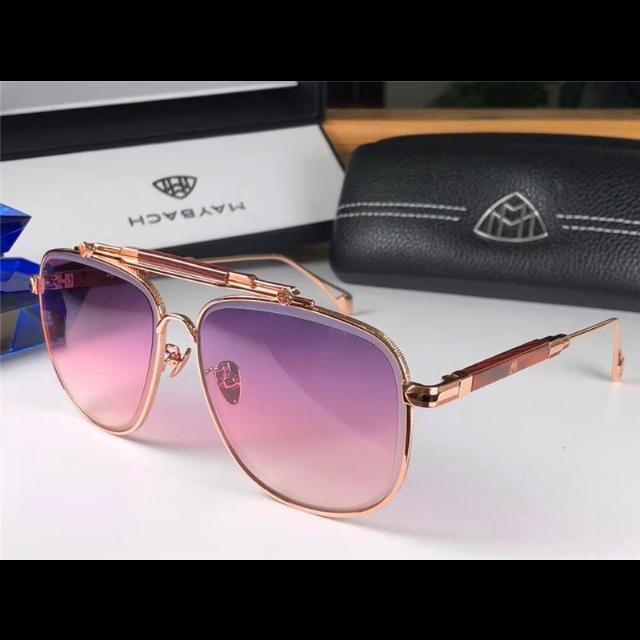sunglasses: (24, 184, 640, 508)
